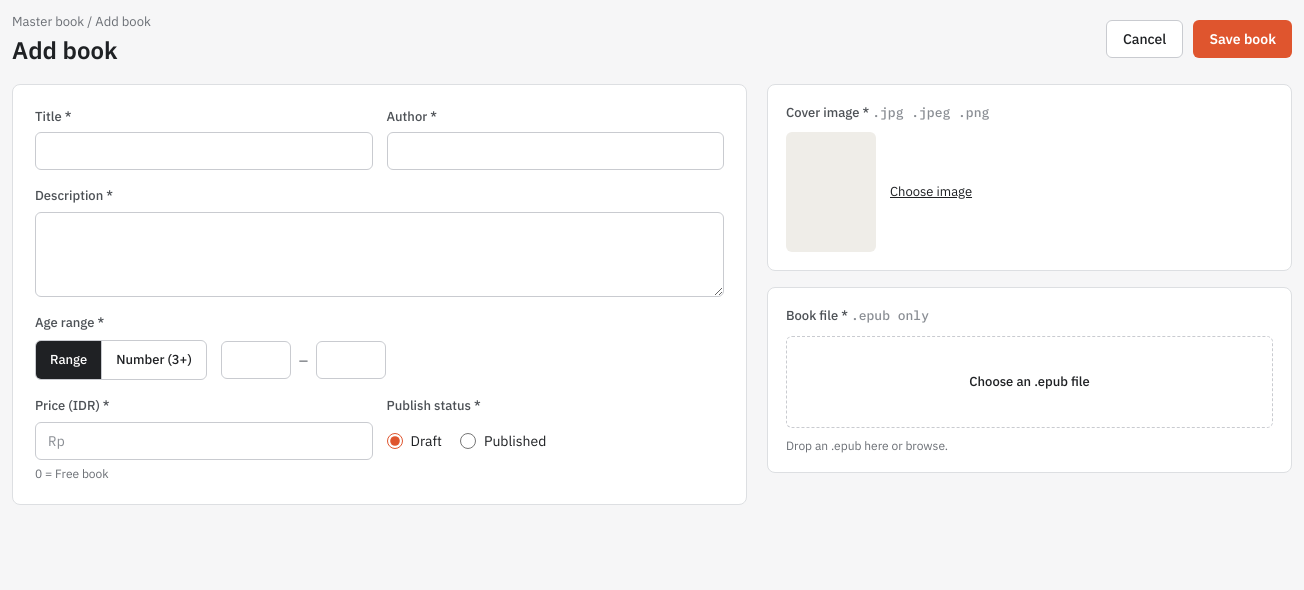
Test: BookForm › shows validation errors, focuses the first one, and does not submit
The width and height of the screenshot is (1304, 590).
In the field named "Minimum age": (256,360) [221, 341, 291, 379], type "5"
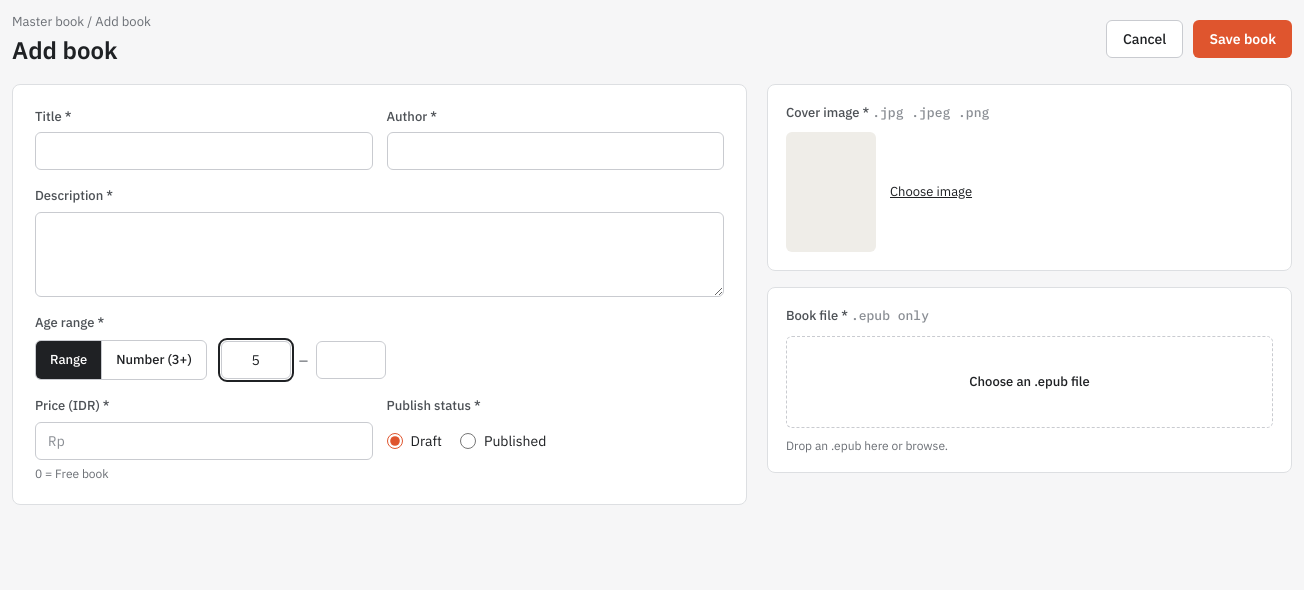
In the field named "Maximum age": (351,360) [316, 341, 386, 379], type "3"
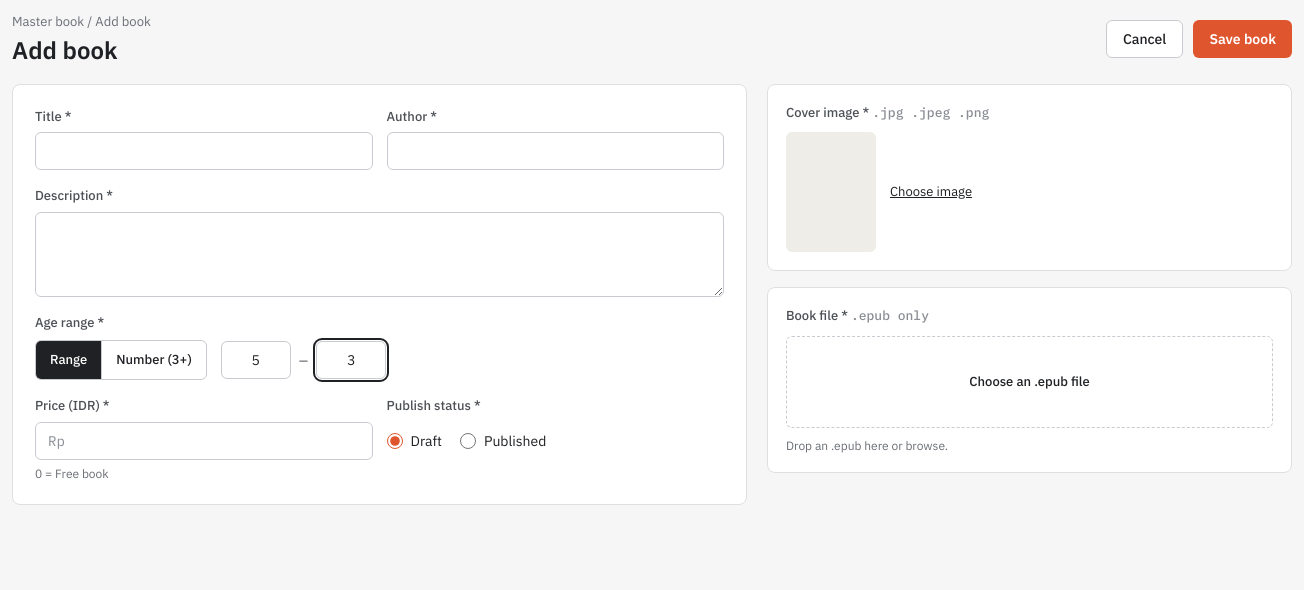
Click the button "Save book": (1243,39) [1193, 20, 1292, 58]
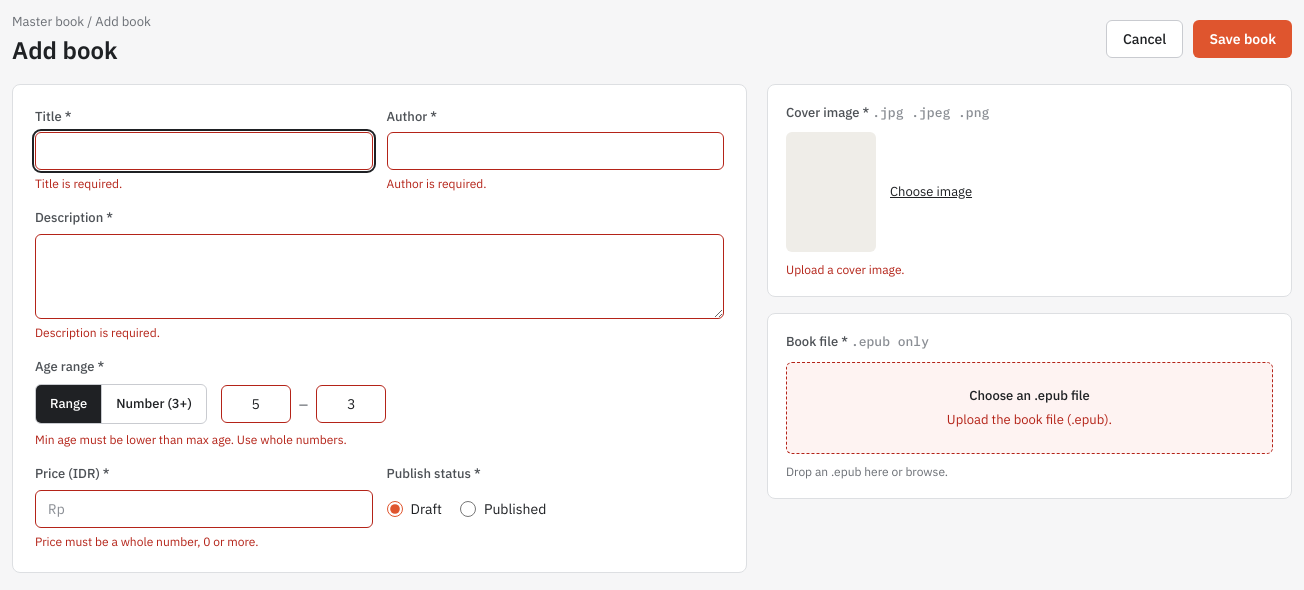
Expected: the text "Title is required." is shown, [35, 176, 122, 191]
Expected: the text "Min age must be lower than max age. Use whole numbers." is shown, [35, 432, 347, 447]
Expected: the text "Upload the book file (.epub)." is shown, [947, 410, 1112, 429]
